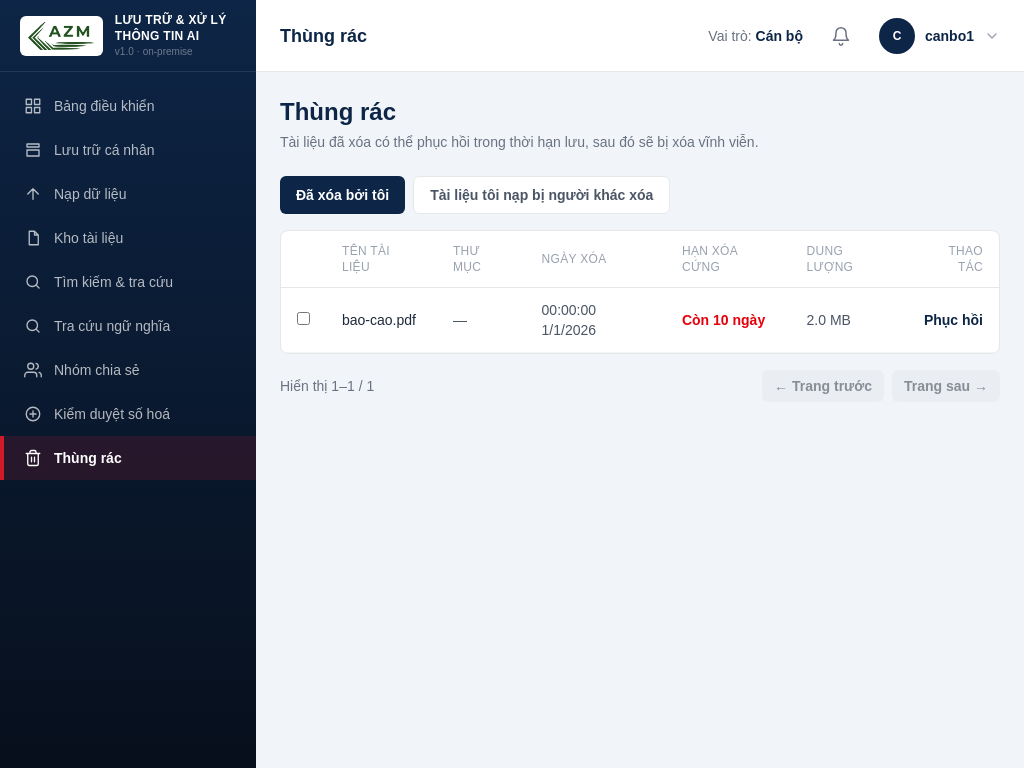
Test: TrashPage › switching to "uploaded" re-fetches with view=uploaded and shows the "Người xóa" column
The width and height of the screenshot is (1024, 768).
Expected: the text "bao-cao.pdf" is shown, [326,288,437,352]
Step 1. Click the button "Tài liệu tôi nạp bị người khác xóa" → (542, 195), box [413,176,670,214]
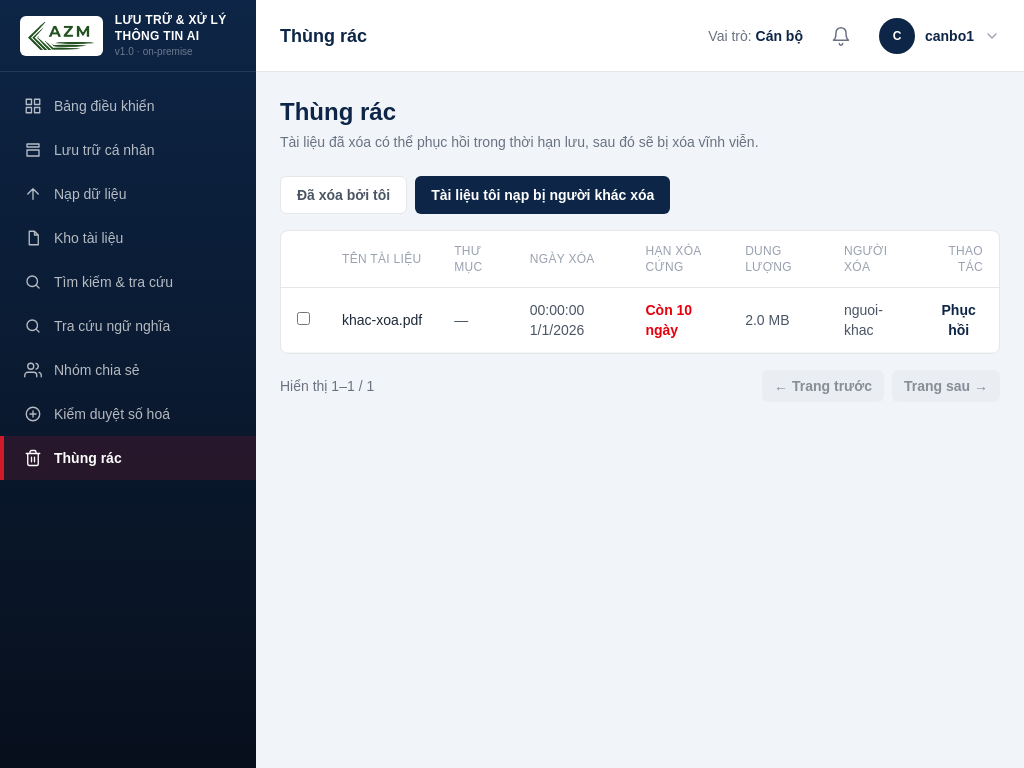
Now the text "khac-xoa.pdf" is shown, box [326,288,438,352]
Now the column heading "Người xóa" is shown, box [828,231,918,288]
Now the text "nguoi-khac" is shown, box [828,288,918,352]
